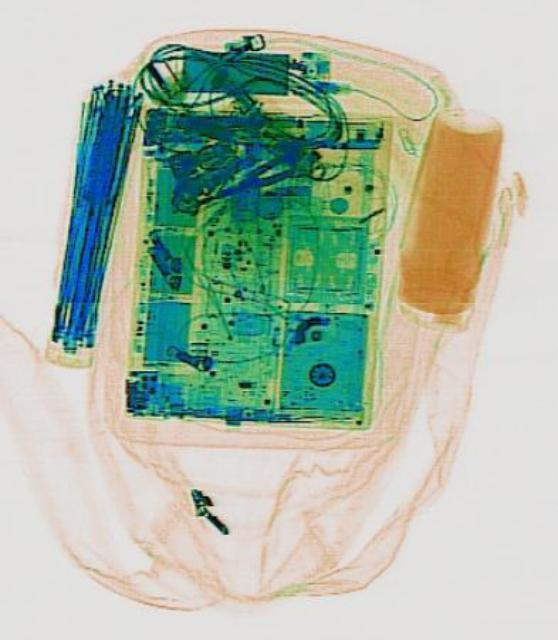Pliers: (213, 146, 295, 202)
